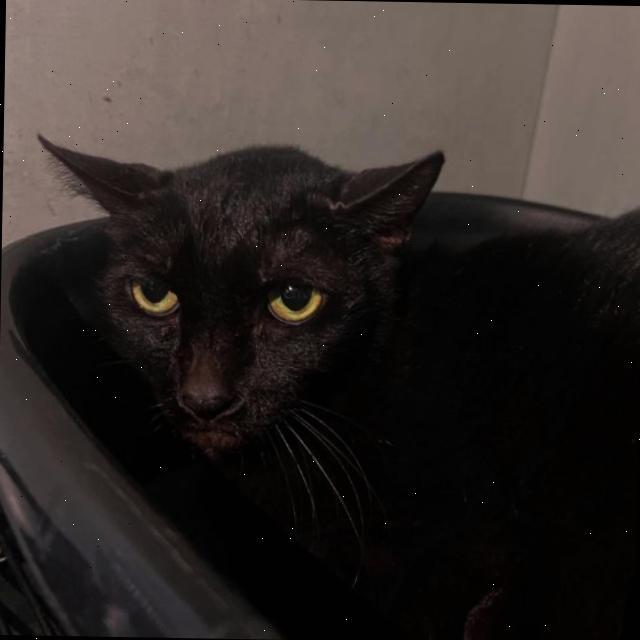domestic_short_hair_cat: (12, 102, 464, 496)
